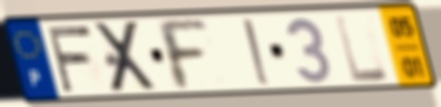3: (284, 14, 334, 86)
F: (152, 18, 212, 93), (43, 23, 94, 95)
I: (240, 16, 275, 88)
L: (331, 12, 392, 85)
X: (92, 19, 161, 96)
